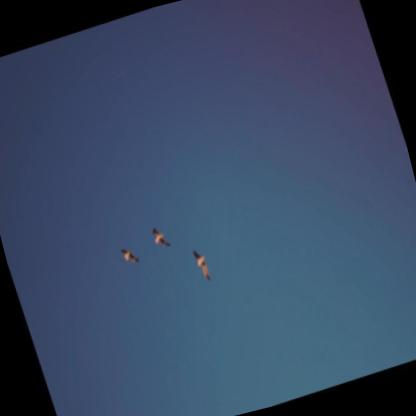bird: (189, 244, 215, 287), (147, 222, 173, 253), (119, 242, 142, 270)
